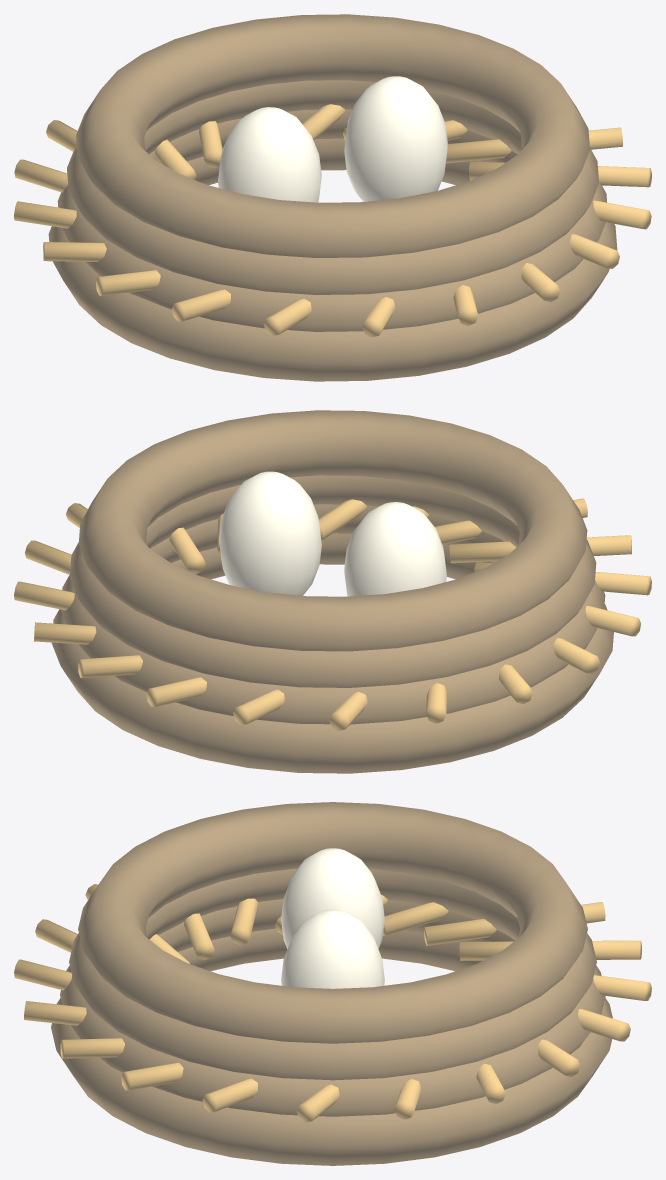
The model's file is sky_nest.glb.
3 renders of one model, top to bottom at view 1: azimuth 30°, elevation 25°; view 2: azimuth 150°, elevation 25°; view 3: azimuth 270°, elevation 25°, orthographic.
Visible parts, largest first — view 1: sky_nest_surface; view 2: sky_nest_surface; view 3: sky_nest_surface.
Boxes of the visible parts, x1=… form: sky_nest_surface: x1=14, y1=14, x2=651, y2=381; sky_nest_surface: x1=14, y1=410, x2=651, y2=773; sky_nest_surface: x1=14, y1=802, x2=651, y2=1165.
Size of the model in its own units: 2.83 by 0.8399 by 2.83.
